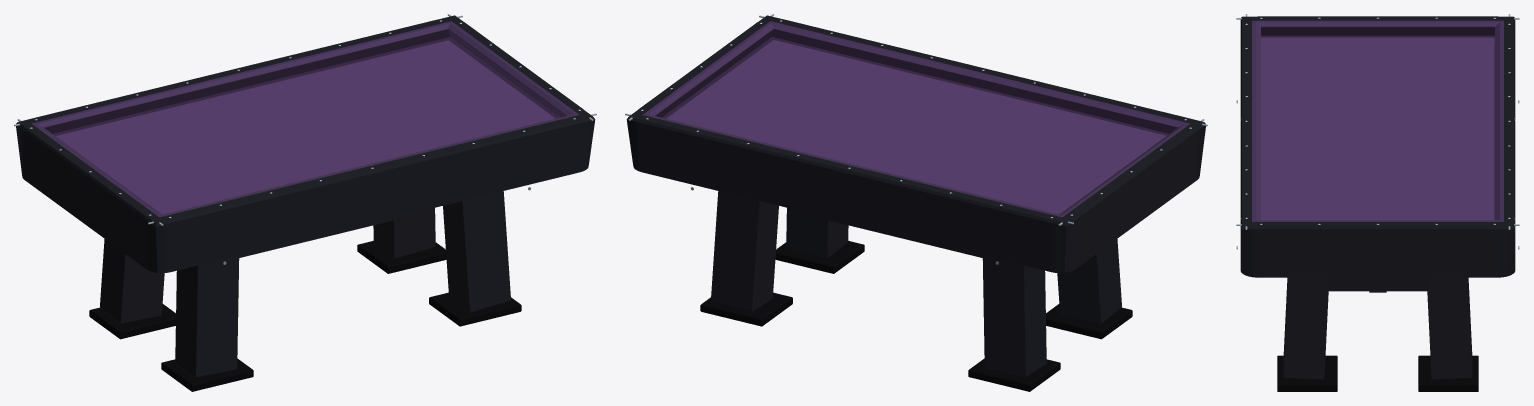
Rendered from table-threecushion-5-chinese-violet.glb.
3 views of the same model, side by side, from view 1: azimuth 30°, elevation 25°; view 2: azimuth 150°, elevation 25°; view 3: azimuth 270°, elevation 25° (orthographic).
Visible parts, largest first — view 1: table-threecushion-5-chinese-violet, break-builder-table-support; view 2: table-threecushion-5-chinese-violet, break-builder-table-support; view 3: table-threecushion-5-chinese-violet, break-builder-table-support.
Boxes of the visible parts, x1,y1,x2,y2 form: table-threecushion-5-chinese-violet: [16, 15, 595, 272]; break-builder-table-support: [89, 191, 521, 391]; table-threecushion-5-chinese-violet: [626, 15, 1205, 272]; break-builder-table-support: [700, 191, 1132, 391]; table-threecushion-5-chinese-violet: [1240, 16, 1515, 277]; break-builder-table-support: [1277, 277, 1478, 391].
Bounding box in the file's own units: 1.71 × 0.7156 × 0.9527.
25 materials, 1 textured.
